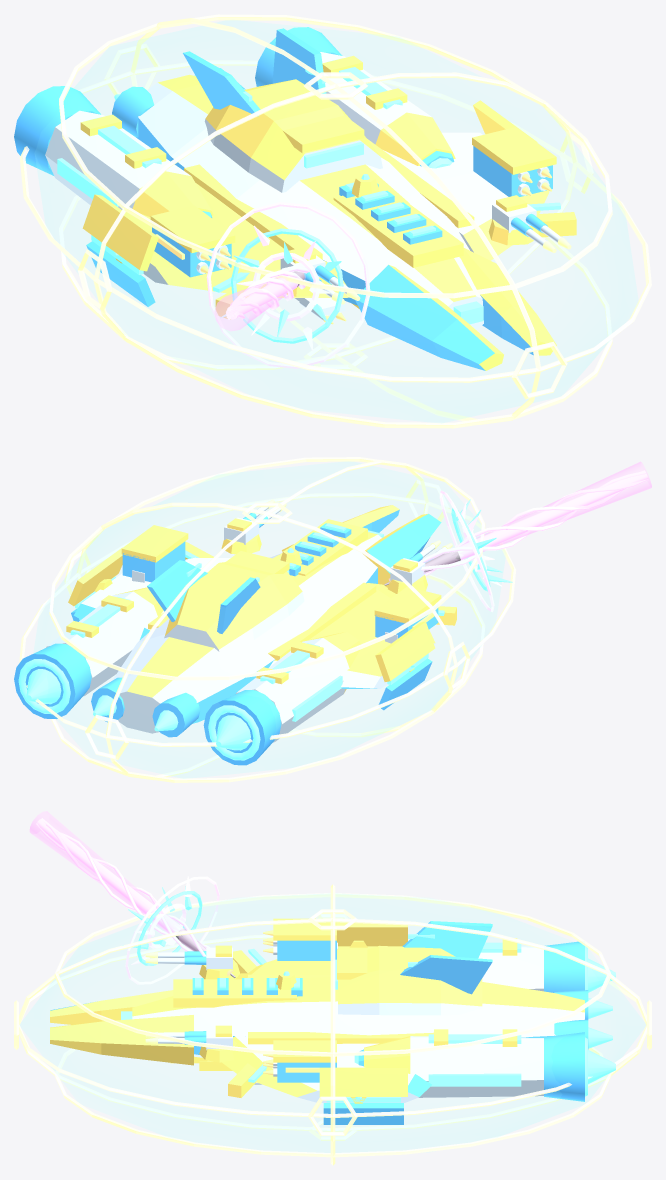
File: horizon_tachyon_cruiser_pierced.fbx
3 views of the same model, one above another, from view 1: azimuth 30°, elevation 25°; view 2: azimuth 150°, elevation 25°; view 3: azimuth 270°, elevation 25° (orthographic). The views are drawn at different scales.
Visible parts, largest first — view 1: Cruiser_Reinforced_Particle_Shield, Cruiser_Reinforced_Hull_Core, Cruiser_Particle_Shield_HexReinforcement, Cruiser_Cyan_Engine_Nacelles, Cruiser_Command_Bridge_And_Spine, Cruiser_Forward_Swept_Wings_And_Armor, Tachyon_Lance_Piercing_FX, Cruiser_Missile_Mounts, Cruiser_Laser_Mounts; view 2: Cruiser_Reinforced_Particle_Shield, Cruiser_Cyan_Engine_Nacelles, Cruiser_Particle_Shield_HexReinforcement, Cruiser_Reinforced_Hull_Core, Cruiser_Command_Bridge_And_Spine, Cruiser_Forward_Swept_Wings_And_Armor, Tachyon_Lance_Piercing_FX, Cruiser_Missile_Mounts, Cruiser_Laser_Mounts; view 3: Cruiser_Reinforced_Particle_Shield, Cruiser_Reinforced_Hull_Core, Cruiser_Particle_Shield_HexReinforcement, Cruiser_Cyan_Engine_Nacelles, Cruiser_Command_Bridge_And_Spine, Cruiser_Forward_Swept_Wings_And_Armor, Tachyon_Lance_Piercing_FX, Cruiser_Missile_Mounts, Cruiser_Laser_Mounts.
Boxes of the visible parts, x1=… form: Cruiser_Reinforced_Particle_Shield: x1=35, y1=21, x2=637, y2=422; Cruiser_Reinforced_Hull_Core: x1=136, y1=74, x2=556, y2=370; Cruiser_Particle_Shield_HexReinforcement: x1=19, y1=14, x2=651, y2=428; Cruiser_Cyan_Engine_Nacelles: x1=14, y1=27, x2=455, y2=217; Cruiser_Command_Bridge_And_Spine: x1=183, y1=28, x2=442, y2=244; Cruiser_Forward_Swept_Wings_And_Armor: x1=82, y1=100, x2=576, y2=319; Tachyon_Lance_Piercing_FX: x1=206, y1=202, x2=370, y2=368; Cruiser_Missile_Mounts: x1=150, y1=127, x2=556, y2=324; Cruiser_Laser_Mounts: x1=280, y1=195, x2=571, y2=304; Cruiser_Reinforced_Particle_Shield: x1=34, y1=462, x2=504, y2=778; Cruiser_Cyan_Engine_Nacelles: x1=14, y1=587, x2=360, y2=765; Cruiser_Particle_Shield_HexReinforcement: x1=19, y1=457, x2=516, y2=782; Cruiser_Reinforced_Hull_Core: x1=112, y1=505, x2=441, y2=733; Cruiser_Command_Bridge_And_Spine: x1=147, y1=523, x2=351, y2=651; Cruiser_Forward_Swept_Wings_And_Armor: x1=68, y1=541, x2=456, y2=710; Tachyon_Lance_Piercing_FX: x1=384, y1=461, x2=651, y2=612; Cruiser_Missile_Mounts: x1=121, y1=525, x2=441, y2=643; Cruiser_Laser_Mounts: x1=221, y1=499, x2=452, y2=593; Cruiser_Reinforced_Particle_Shield: x1=20, y1=894, x2=645, y2=1152; Cruiser_Reinforced_Hull_Core: x1=50, y1=974, x2=584, y2=1070; Cruiser_Particle_Shield_HexReinforcement: x1=14, y1=884, x2=651, y2=1165; Cruiser_Cyan_Engine_Nacelles: x1=354, y1=938, x2=615, y2=1101; Cruiser_Command_Bridge_And_Spine: x1=192, y1=921, x2=492, y2=1015; Cruiser_Forward_Swept_Wings_And_Armor: x1=222, y1=922, x2=431, y2=1124; Tachyon_Lance_Piercing_FX: x1=29, y1=811, x2=235, y2=984; Cruiser_Missile_Mounts: x1=254, y1=918, x2=337, y2=1084; Cruiser_Laser_Mounts: x1=145, y1=945, x2=240, y2=1063.
Bounding box in the file's own units: 4.77 × 2.31 × 6.2.
